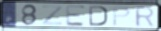8: (21, 4, 38, 26)
D: (88, 5, 109, 27)
E: (65, 4, 87, 27)
P: (112, 6, 132, 27)
R: (134, 6, 156, 28)
Z: (41, 5, 63, 26)
